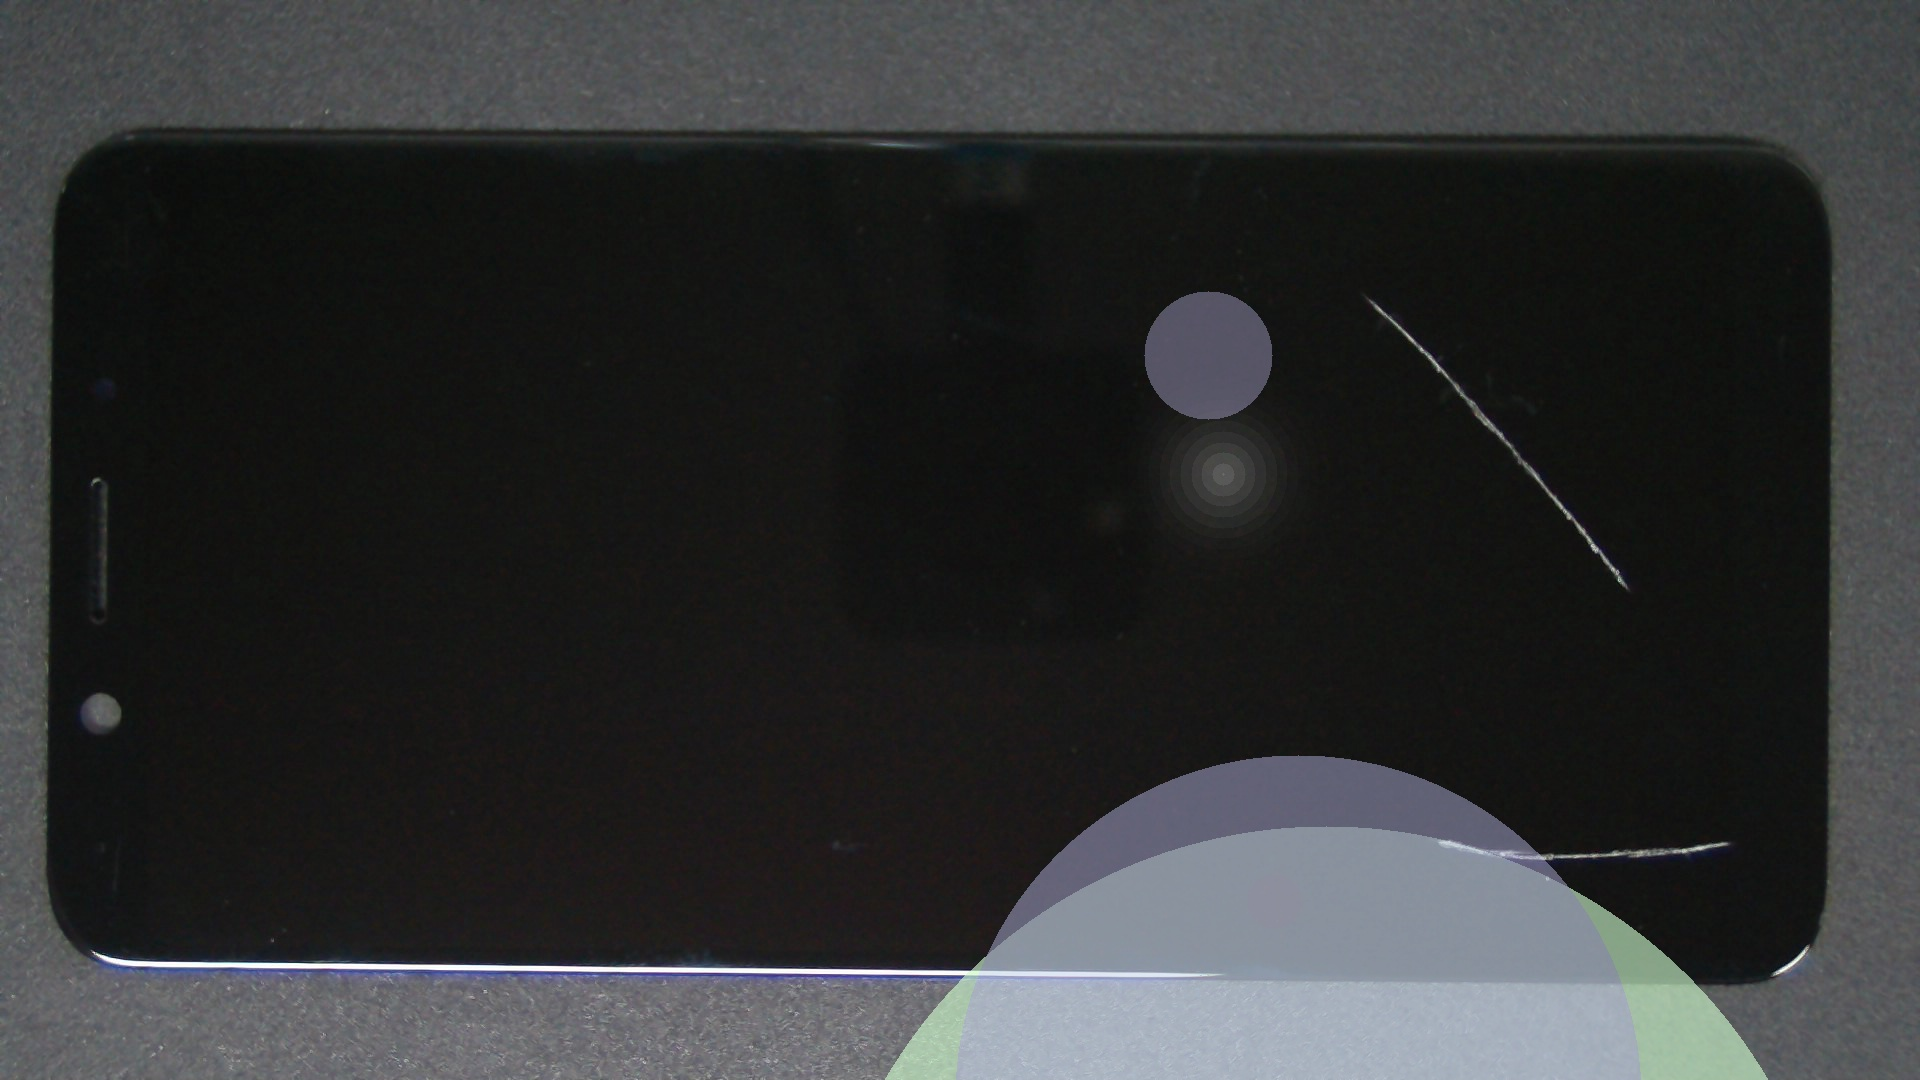oil: (716, 418, 1920, 1080), (683, 146, 1920, 443)
